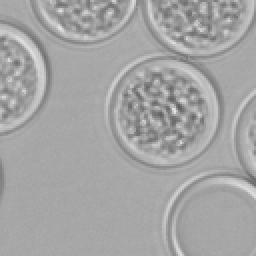picoshell: (104, 54, 222, 166), (162, 170, 254, 254), (142, 0, 252, 56), (0, 22, 46, 132), (30, 0, 134, 46), (230, 88, 254, 178)
